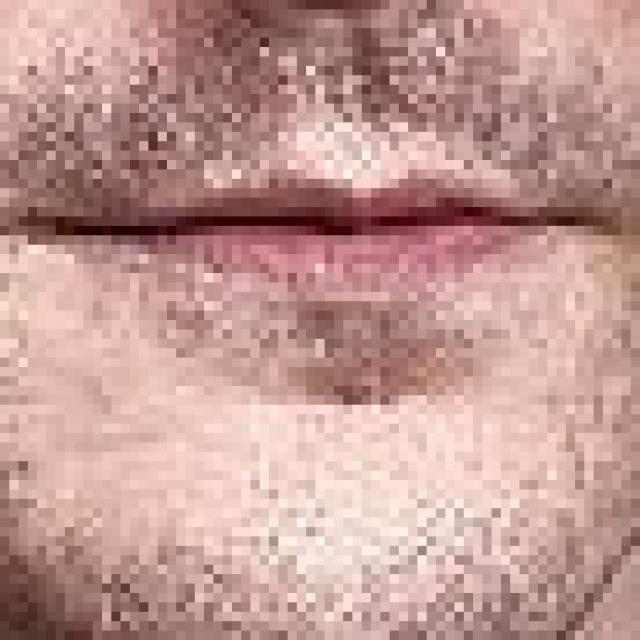closed-mouth: (0, 160, 631, 310)
